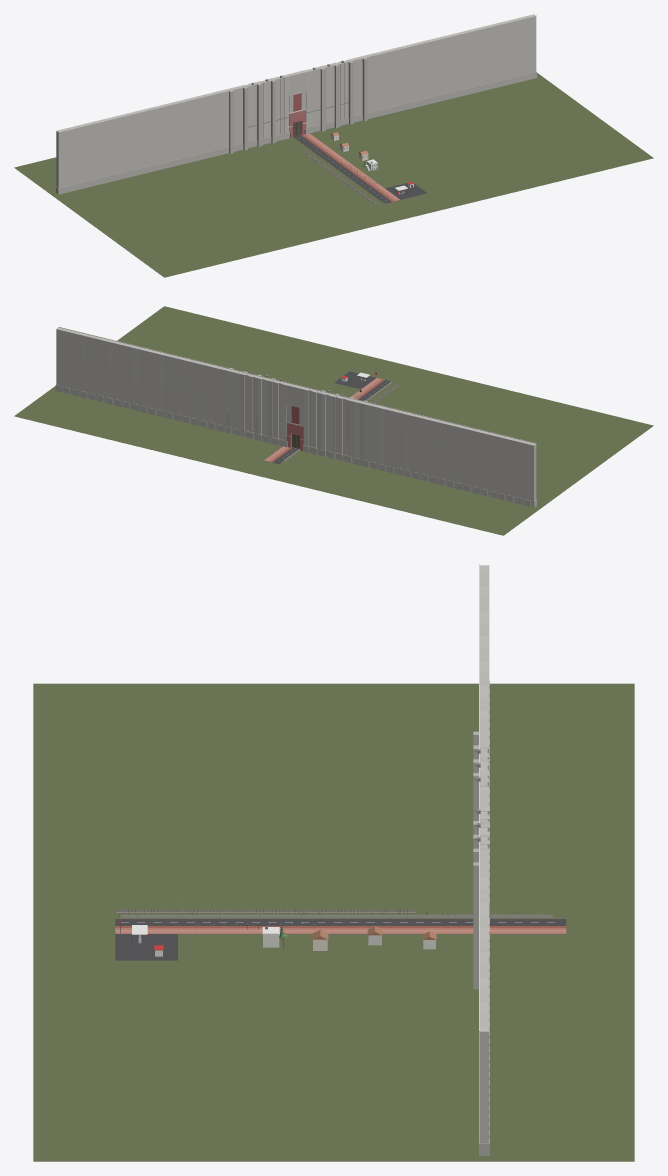
The model's file is ingresso-oristano.glb.
3 views of the same model, one above another, from view 1: azimuth 30°, elevation 25°; view 2: azimuth 150°, elevation 25°; view 3: azimuth 270°, elevation 25° (orthographic). The views are drawn at different scales.
Visible parts, largest first — view 1: Ground_Base, Wall_Backing_L, Wall_Backing_R, Wall_CapTrim, Road_Carriageway, Gate_TopInfill; view 2: Ground_Base, Wall_Backing_R, Wall_Backing_L, Wall_CapTrim, Gate_TopInfill, Station_Forecourt, Road_Carriageway; view 3: Ground_Base, Road_Carriageway, Wall_Backing_R, Fence_MeshPanel, Station_Forecourt, Track_Ballast, Road_Sidewalk_Red, Road_Sidewalk_Bike.
Part boxes in pixels (x1,y1,x2,y2): Ground_Base: [14, 73, 653, 277]; Wall_Backing_L: [56, 85, 243, 187]; Wall_Backing_R: [348, 14, 536, 115]; Wall_CapTrim: [58, 15, 536, 132]; Road_Carriageway: [294, 135, 391, 203]; Gate_TopInfill: [287, 70, 306, 95]; Ground_Base: [14, 306, 653, 535]; Wall_Backing_R: [56, 328, 244, 436]; Wall_Backing_L: [348, 398, 536, 507]; Wall_CapTrim: [58, 326, 536, 443]; Gate_TopInfill: [286, 383, 305, 408]; Station_Forecourt: [334, 371, 375, 389]; Road_Carriageway: [272, 380, 391, 464]; Ground_Base: [33, 683, 634, 1161]; Road_Carriageway: [115, 919, 566, 925]; Wall_Backing_R: [479, 850, 489, 1143]; Fence_MeshPanel: [120, 914, 552, 917]; Station_Forecourt: [115, 934, 177, 960]; Track_Ballast: [115, 910, 415, 913]; Road_Sidewalk_Red: [115, 928, 566, 930]; Road_Sidewalk_Bike: [115, 931, 566, 933].
Size of the model in its own units: 414 by 52 by 220.
